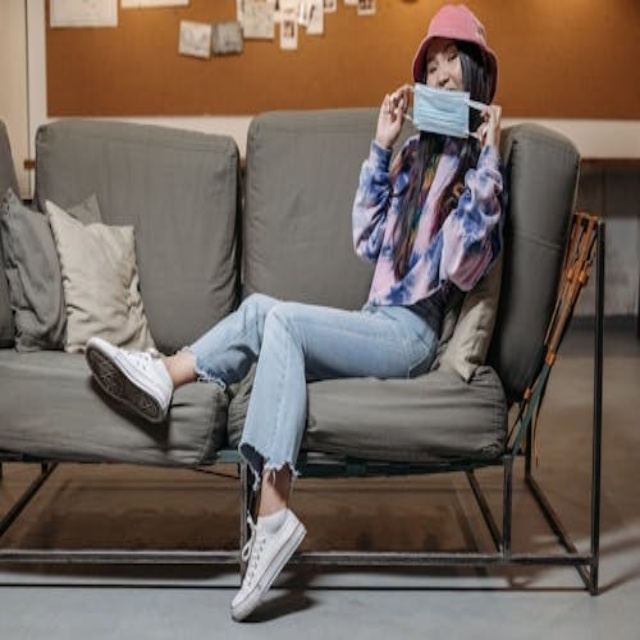Sin_gafas: (422, 44, 458, 77)
Sin_guantes: (371, 79, 410, 146), (470, 94, 504, 148)
